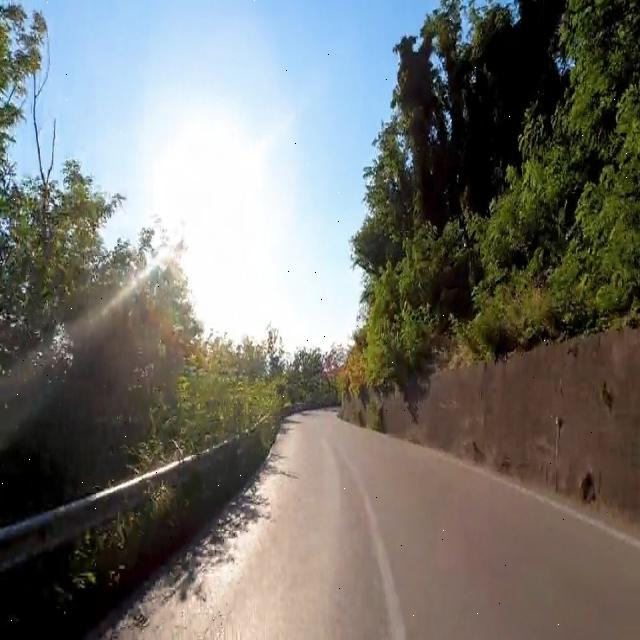lane: (107, 410, 639, 638), (339, 448, 406, 639)
road: (107, 410, 639, 638)
